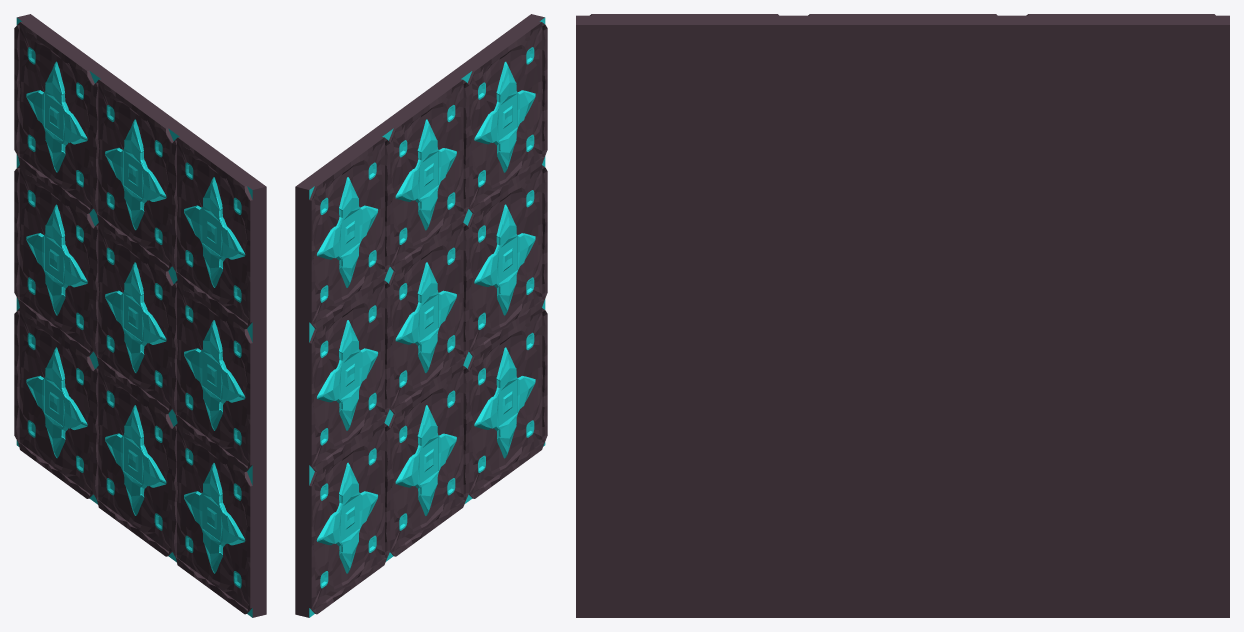
Rendered from SpockPlacer_Waterfall2.fbx.
The picture shows the model from 3 angles, left to right: view 1: azimuth 30°, elevation 25°; view 2: azimuth 150°, elevation 25°; view 3: azimuth 270°, elevation 25°; orthographic projection. The views are drawn at different scales.
Parts seen in each view (by area): view 1: Spock Placer_Rock; view 2: Spock Placer_Rock; view 3: Spock Placer_Rock.
Part boxes in pixels (x1,y1,x2,y2): Spock Placer_Rock: (14, 14, 266, 617); Spock Placer_Rock: (295, 14, 547, 617); Spock Placer_Rock: (576, 14, 1229, 617).
Size of the model in its own units: 20.67 by 452 by 452.
